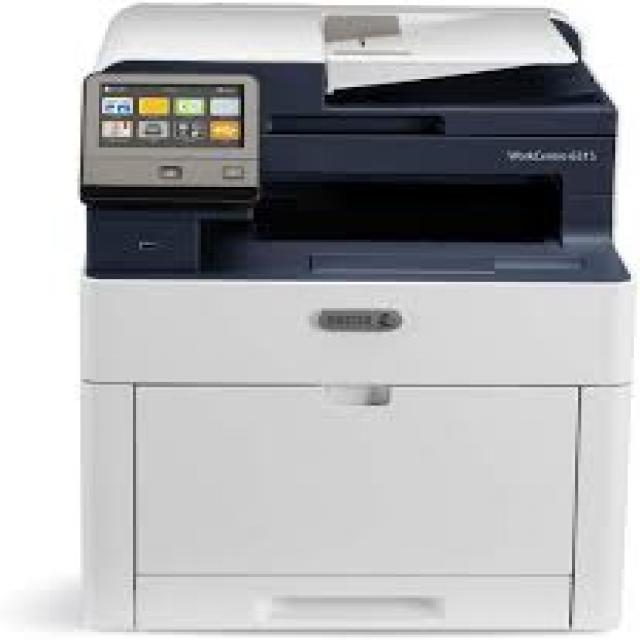printer: (52, 0, 640, 636)
